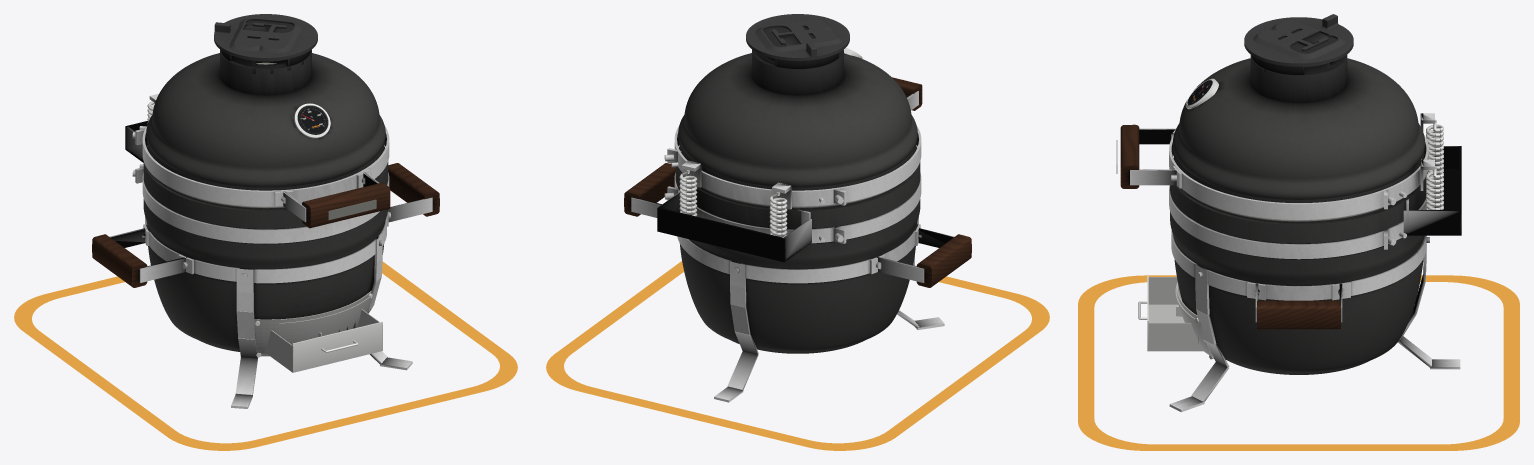
File: grill-bill-pro-3-medium-16-v30.glb
3 renders of one model, left to right at view 1: azimuth 30°, elevation 25°; view 2: azimuth 150°, elevation 25°; view 3: azimuth 270°, elevation 25°, orthographic. The views are drawn at different scales.
Parts seen in each view (by area): view 1: base, lid; view 2: base, lid; view 3: base, lid.
Boxes of the visible parts, box(x1,y1,x2,y2) form: base: box(14, 101, 517, 450); lid: box(132, 14, 390, 228); base: box(546, 147, 1049, 450); lid: box(664, 14, 922, 209); base: box(1078, 119, 1519, 450); lid: box(1116, 14, 1434, 219).
Size of the model in its own units: 0.6441 by 0.5715 by 0.6853.
Materials: 21 (7 with a texture image).
